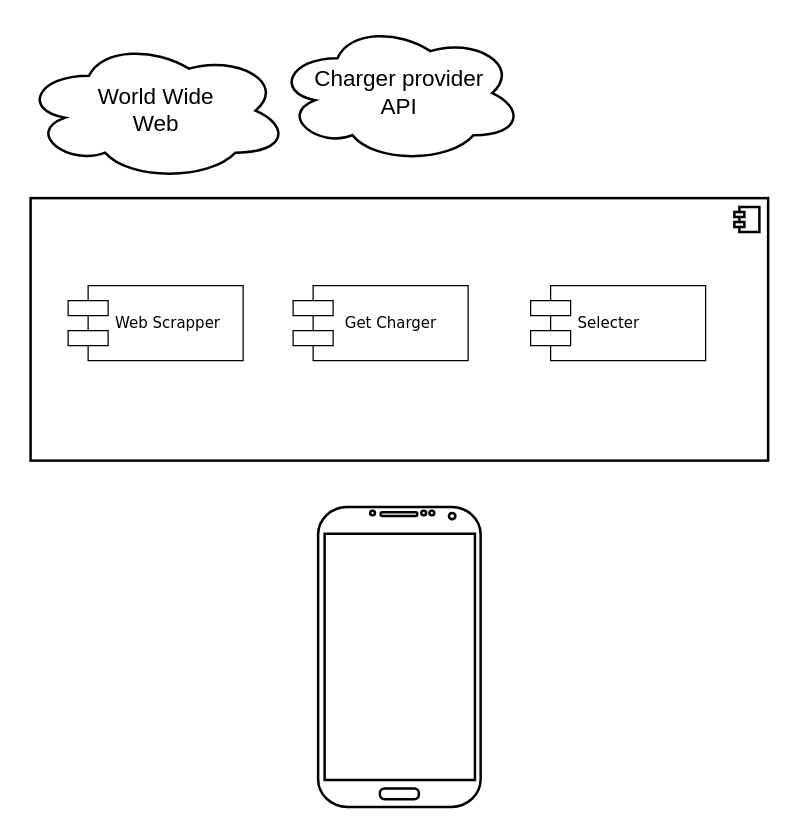
The diagram is 791 pixels wide and 829 high, and some of its shapes have lost their labels. The box of each missing label's shape, as (x1, y1, x2, y2) in pixels:
Backend: (29, 196, 769, 461)
Feed: (316, 505, 481, 808)
